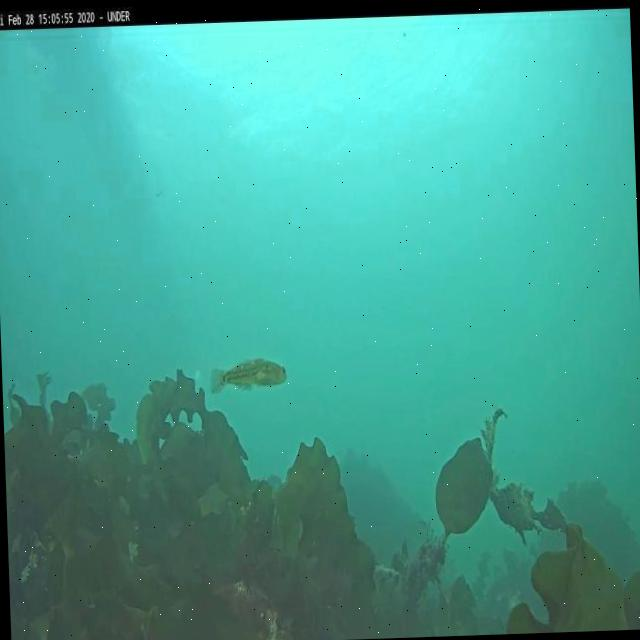fish: (212, 357, 287, 396)
